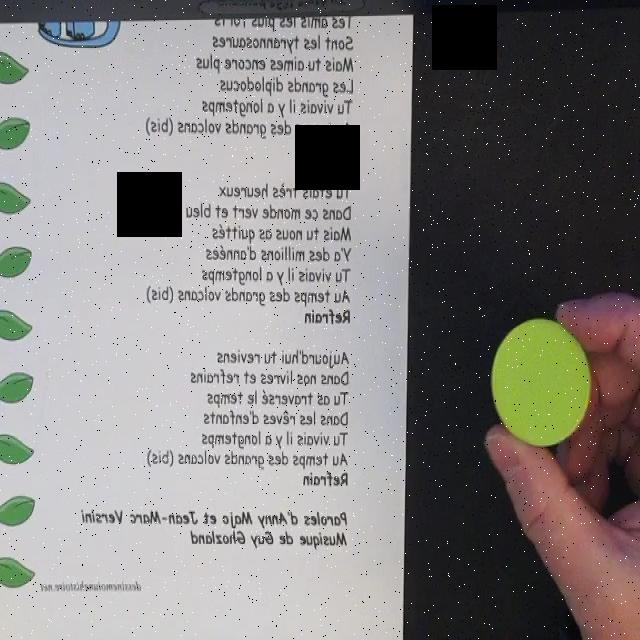round: (491, 318, 592, 448)
